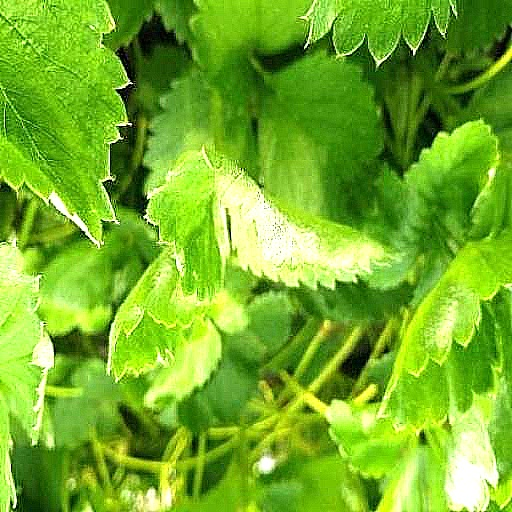Powdery Mildew Leaf: (0, 263, 133, 511), (201, 222, 401, 372), (376, 77, 511, 286), (107, 129, 217, 267), (143, 207, 230, 362), (443, 0, 499, 102)
